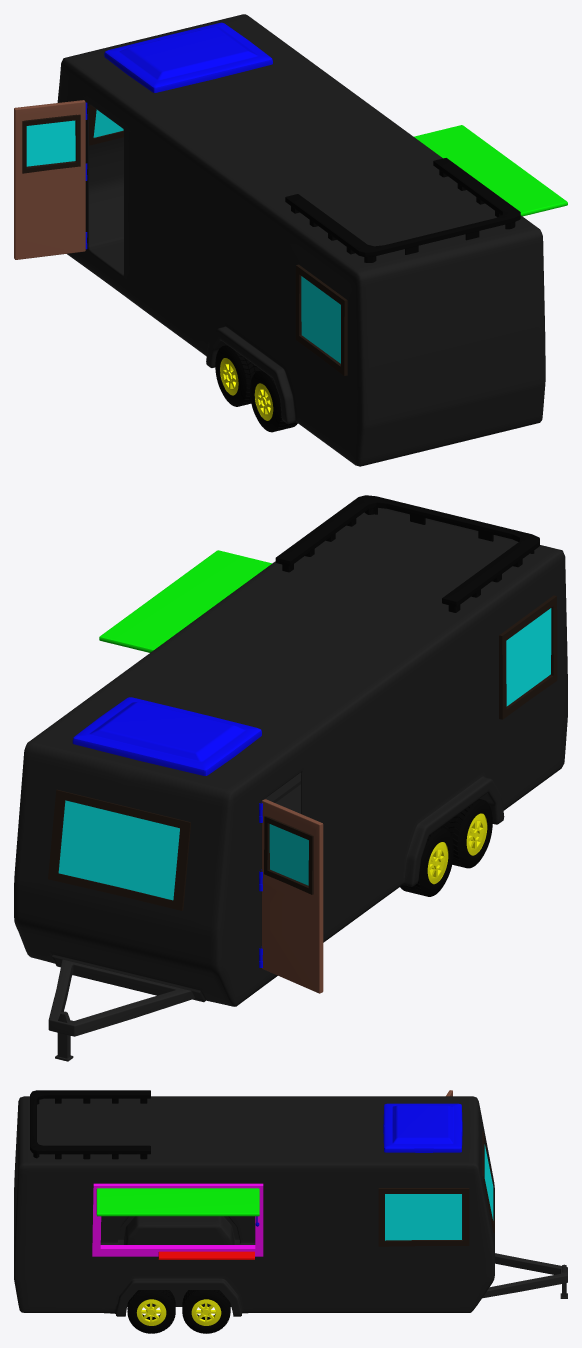
3 views of the same model, one above another, from view 1: azimuth 30°, elevation 25°; view 2: azimuth 150°, elevation 25°; view 3: azimuth 270°, elevation 25° (orthographic). The views are drawn at different scales.
Parts seen in each view (by area): view 1: RV_Combined_V2; view 2: RV_Combined_V2; view 3: RV_Combined_V2.
Boxes of the visible parts, left/top/right/bottom form: RV_Combined_V2: left=14, top=14, right=567, bottom=466; RV_Combined_V2: left=14, top=495, right=567, bottom=1061; RV_Combined_V2: left=14, top=1090, right=567, bottom=1333.
Size of the model in its own units: 4.48 by 3.04 by 8.64.
